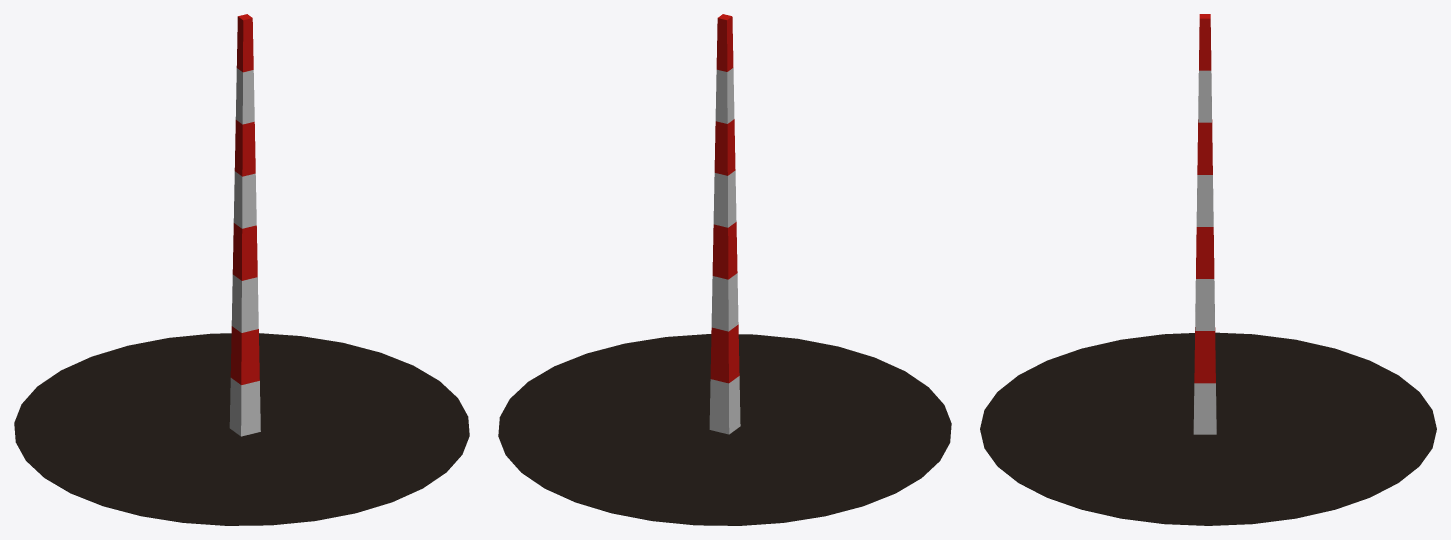
Rendered from Flare For LNG Train 1-2_cube.fbx.
3 renders of one model, left to right at view 1: azimuth 30°, elevation 25°; view 2: azimuth 150°, elevation 25°; view 3: azimuth 270°, elevation 25°, orthographic.
Parts seen in each view (by area): view 1: Flare_cube; view 2: Flare_cube; view 3: Flare_cube.
Boxes of the visible parts, x1=… form: Flare_cube: x1=14, y1=14, x2=469, y2=525; Flare_cube: x1=498, y1=14, x2=951, y2=525; Flare_cube: x1=980, y1=14, x2=1436, y2=525.
Bounding box in the file's own units: 100 × 100 × 100.
